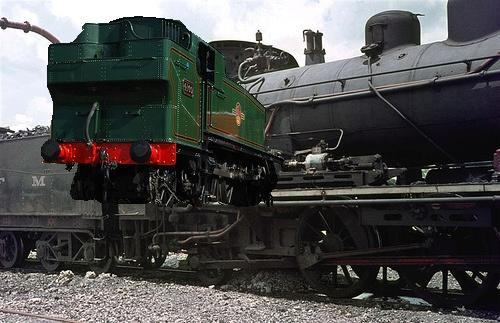tampered: (41, 17, 284, 207)
